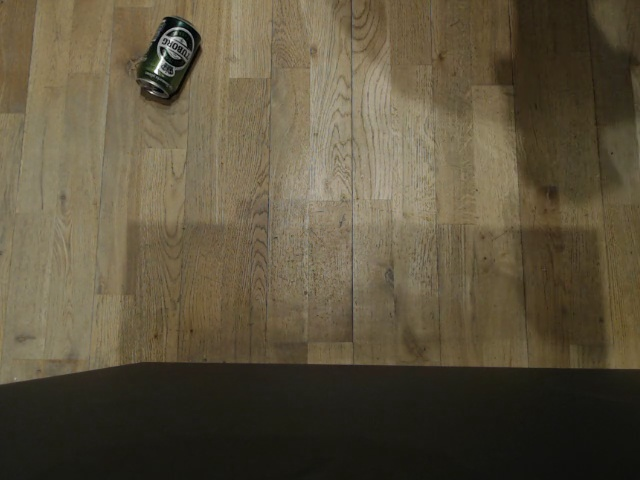beer: (134, 12, 203, 102)
